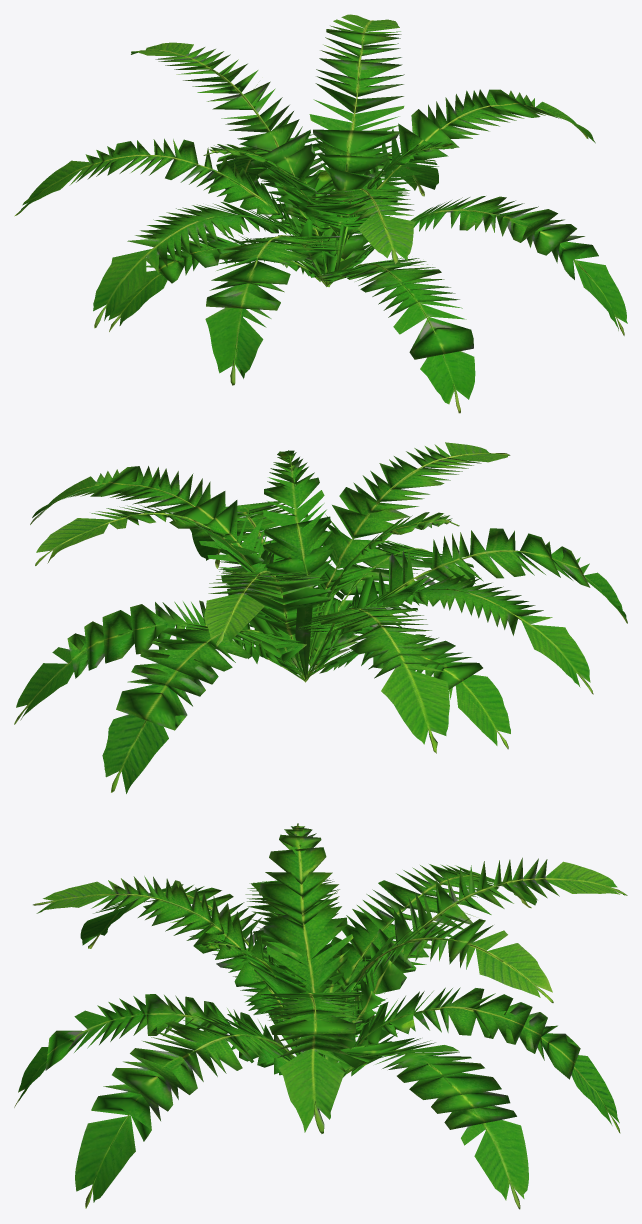
File: fern_detail.glb
3 renders of one model, top to bottom at view 1: azimuth 30°, elevation 25°; view 2: azimuth 150°, elevation 25°; view 3: azimuth 270°, elevation 25°, orthographic. The views are drawn at different scales.
Size of the model in its own units: 0.9609 by 0.3735 by 0.8999.
Materials: 1 (1 with a texture image).
